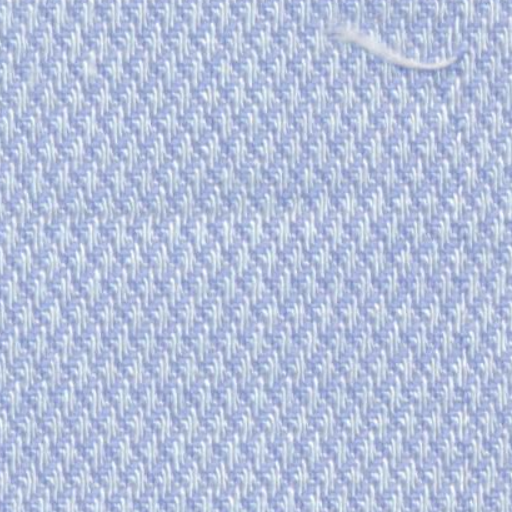DuanSha: (324, 11, 473, 83)
